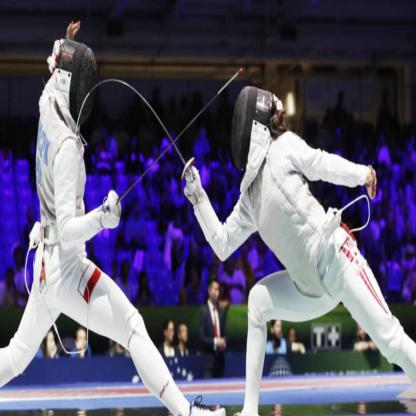fencer: (0, 9, 230, 415), (177, 70, 415, 414)
